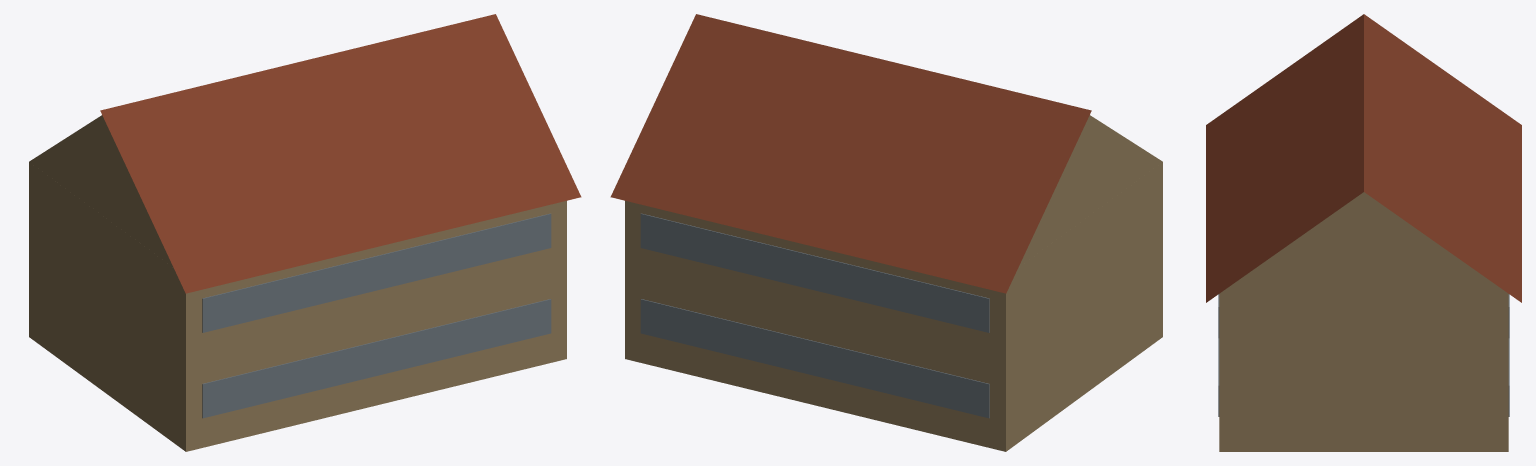
Rendered from village-inn.tone-v1.lod2.glb.
3 views of the same model, side by side, from view 1: azimuth 30°, elevation 25°; view 2: azimuth 150°, elevation 25°; view 3: azimuth 270°, elevation 25° (orthographic). The views are drawn at different scales.
Parts seen in each view (by area): view 1: village-inn; view 2: village-inn; view 3: village-inn.
Part boxes in pixels (left/top/right/bottom): village-inn: left=29, top=14, right=581, bottom=451; village-inn: left=610, top=14, right=1162, bottom=451; village-inn: left=1206, top=14, right=1521, bottom=451.
Bounding box in the file's own units: 14.54 × 10.03 × 10.9.
